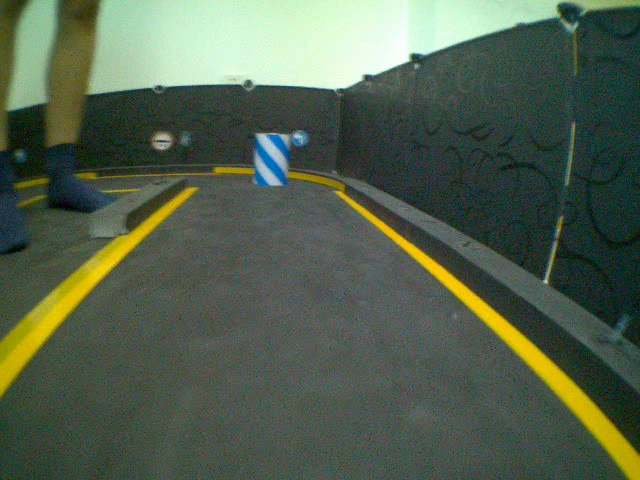bucket: (249, 128, 290, 192)
